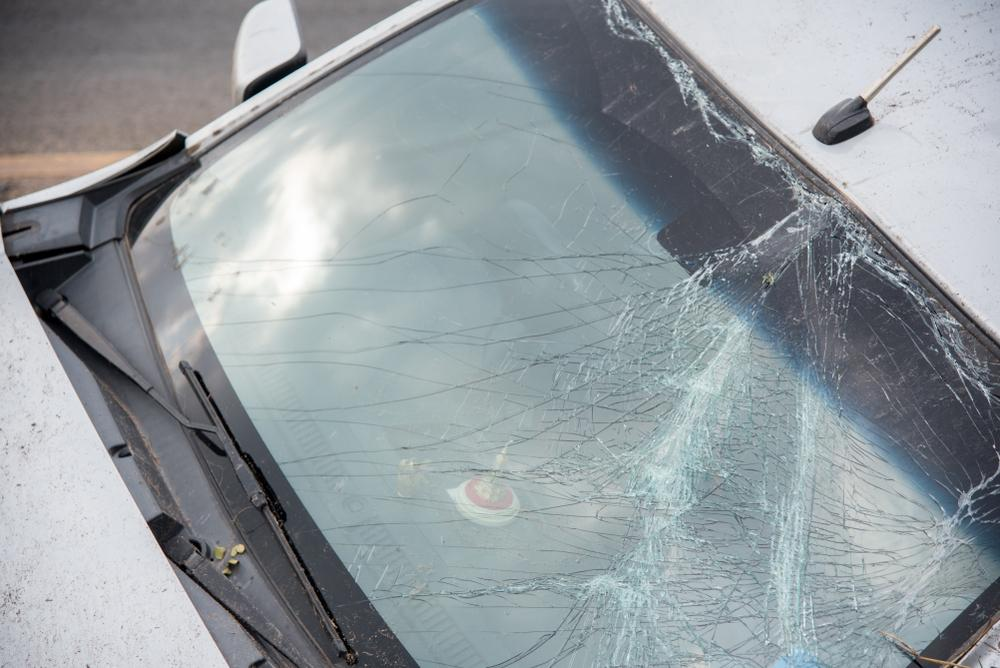glass shatter: (125, 0, 1000, 668)
